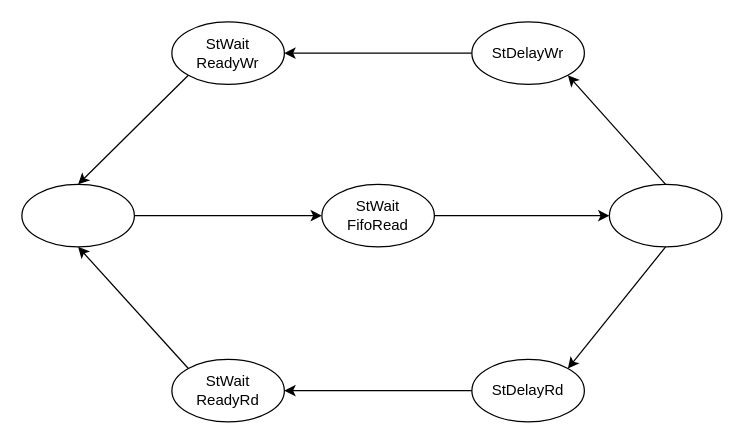
Some shapes in this 744 by 444 pixel diagram are drawn without their labels. Here are the shapes that lost their labels. From the top down, the centre of each, then its label:
At point 77,215: "StIdle".
At point 665,215: "StReadFifo".
